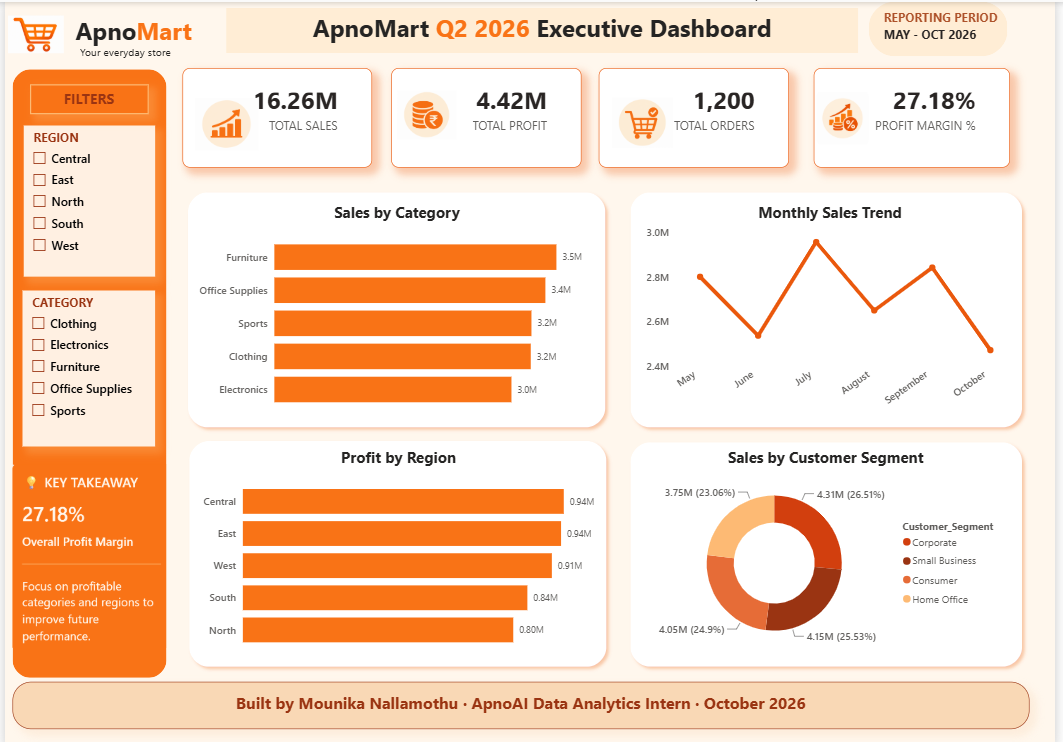

Layout of this report page (visuals, bound fields, positions):
{"tool":"powerbi","page":{"name":"Page 1","canvas":[1400,1000],"ordinal":0},"visuals":[{"type":"shape","box":[10,94.6,205.4,811.5],"z":0},{"type":"textbox","box":[295,12.5,842.5,60],"z":1000},{"type":"textbox","box":[82.5,16.2,176.2,62.5],"z":2000},{"type":"image","box":[0,22.5,82.5,50],"z":3000},{"type":"textbox","box":[95,56.2,200,46.2],"z":4000},{"type":"shape","box":[1151.8,5.5,185,72.5],"z":5000},{"type":"textbox","box":[1166.8,10.5,170,61.2],"z":6000},{"type":"cardVisual","fields":{"Data":["apnomart-sales-data.Total Sales"]},"box":[236.2,93.8,252.5,132.5],"z":7000},{"type":"cardVisual","fields":{"Data":["apnomart-sales-data.Total Profit"]},"box":[515,93.8,253.8,132.5],"z":8000},{"type":"cardVisual","fields":{"Data":["apnomart-sales-data.Profit Margin %"]},"box":[1077.5,93.8,261.2,132.5],"z":9000},{"type":"cardVisual","fields":{"Data":["apnomart-sales-data.Total Orders Display"]},"box":[791.2,93.8,253.8,132.5],"z":10000},{"type":"image","box":[252.5,133.8,85,70],"z":11000},{"type":"image","box":[522.9,115.7,78.6,81.4],"z":12000},{"type":"image","box":[810,122.5,80,85],"z":13000},{"type":"image","box":[1081.2,116.2,70,87.5],"z":14000},{"type":"shape","box":[235.7,250,574.3,331.4],"z":15000},{"type":"clusteredBarChart","title":" Sales by Category","fields":{"Category":["apnomart-sales-data.Category"],"Y":["apnomart-sales-data.Total Sales"]},"box":[252.9,271.4,538.6,291.4],"z":16000},{"type":"shape","box":[825.7,250,540,331.4],"z":17000},{"type":"lineChart","title":"Monthly Sales Trend","fields":{"Y":["apnomart-sales-data.Total Sales"],"Category":["apnomart-sales-data.Month.Variation.Date Hierarchy.Month"]},"box":[850,271.4,500,291.4],"z":18000},{"type":"shape","box":[236,581,574,319],"z":19000},{"type":"clusteredBarChart","title":"Profit by Region","fields":{"Y":["apnomart-sales-data.Total Profit"],"Category":["apnomart-sales-data.Region"]},"box":[258.6,598.6,532.9,284.3],"z":20000},{"type":"shape","box":[825.7,582.9,540,317.1],"z":21000},{"type":"donutChart","title":"Sales by Customer Segment","fields":{"Category":["apnomart-sales-data.Customer_Segment"],"Y":["apnomart-sales-data.Total Sales"]},"box":[850,598.6,488.6,284.3],"z":22000},{"type":"slicer","fields":{"Values":["apnomart-sales-data.Region"]},"box":[25,170,175,201.7],"z":22001},{"type":"slicer","fields":{"Values":["apnomart-sales-data.Category"]},"box":[23.3,390,176.7,208.3],"z":22002},{"type":"textbox","box":[33.3,115,158.3,40],"z":22003},{"type":"textbox","box":[10,911.4,1355.7,62.9],"z":22005},{"type":"image","box":[10,598.3,205,291.7],"z":22006}]}

Visuals, with their boxes in screenshot pixels (x1, y1, x2, y2), scaled from the page's 1400x1000 canvas onto the 1063x742 screenshot:
shape: locate(8, 70, 164, 672)
textbox: locate(224, 9, 864, 54)
textbox: locate(63, 12, 196, 58)
image: locate(0, 17, 63, 54)
textbox: locate(72, 42, 224, 76)
shape: locate(875, 4, 1015, 58)
textbox: locate(886, 8, 1015, 53)
cardVisual - apnomart-sales-data.Total Sales: locate(179, 70, 371, 168)
cardVisual - apnomart-sales-data.Total Profit: locate(391, 70, 584, 168)
cardVisual - apnomart-sales-data.Profit Margin %: locate(818, 70, 1016, 168)
cardVisual - apnomart-sales-data.Total Orders Display: locate(601, 70, 793, 168)
image: locate(192, 99, 256, 151)
image: locate(397, 86, 457, 146)
image: locate(615, 91, 676, 154)
image: locate(821, 86, 874, 151)
shape: locate(179, 186, 615, 431)
" Sales by Category" clusteredBarChart: locate(192, 201, 601, 418)
shape: locate(627, 186, 1037, 431)
"Monthly Sales Trend" lineChart: locate(645, 201, 1025, 418)
shape: locate(179, 431, 615, 668)
"Profit by Region" clusteredBarChart: locate(196, 444, 601, 655)
shape: locate(627, 433, 1037, 668)
"Sales by Customer Segment" donutChart: locate(645, 444, 1016, 655)
slicer - apnomart-sales-data.Region: locate(19, 126, 152, 276)
slicer - apnomart-sales-data.Category: locate(18, 289, 152, 444)
textbox: locate(25, 85, 145, 115)
textbox: locate(8, 676, 1037, 723)
image: locate(8, 444, 163, 660)
